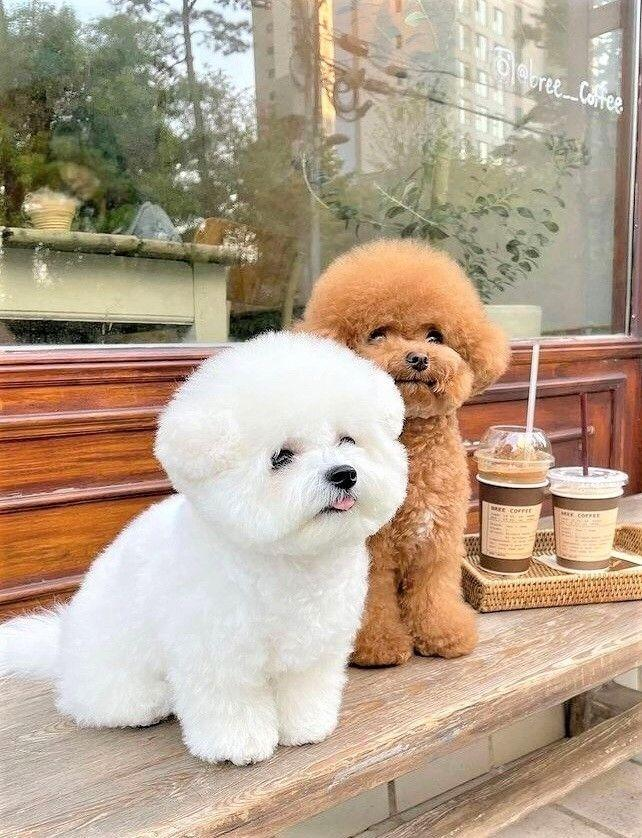adult_dog: (0, 329, 409, 767), (290, 236, 510, 668)
